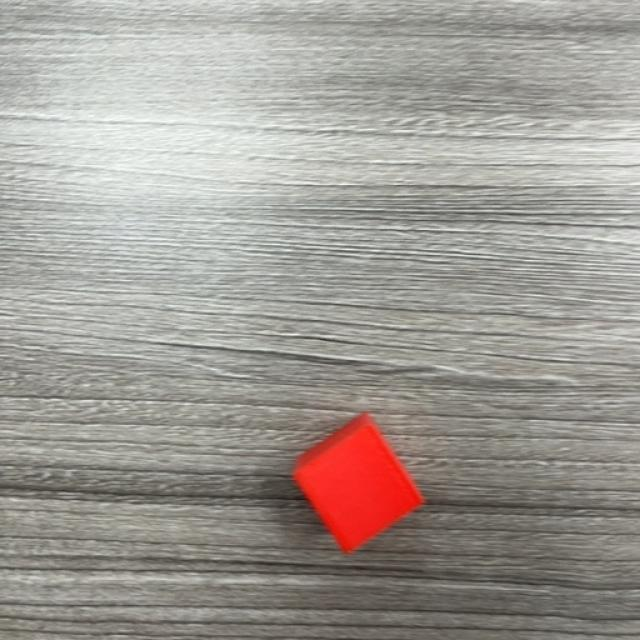Rojo: (291, 414, 425, 555)
